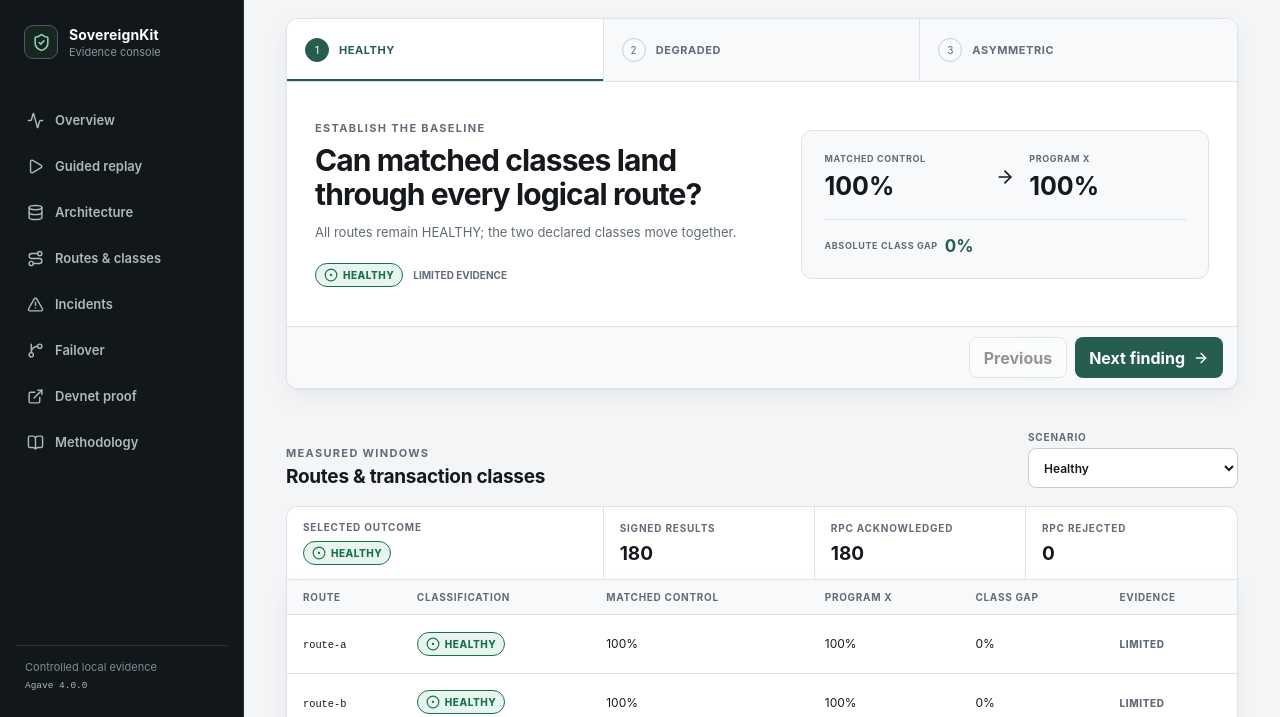
evidence dashboard › replays healthy, degraded, and asymmetric findings from accepted scenarios
(page scrolled)
expect the text "All routes remain HEALTHY; the two declared classes move together." is shown: met, box [315, 222, 765, 243]
Step 1. Click the button "Next finding" → (1149, 358), box [1075, 337, 1223, 378]
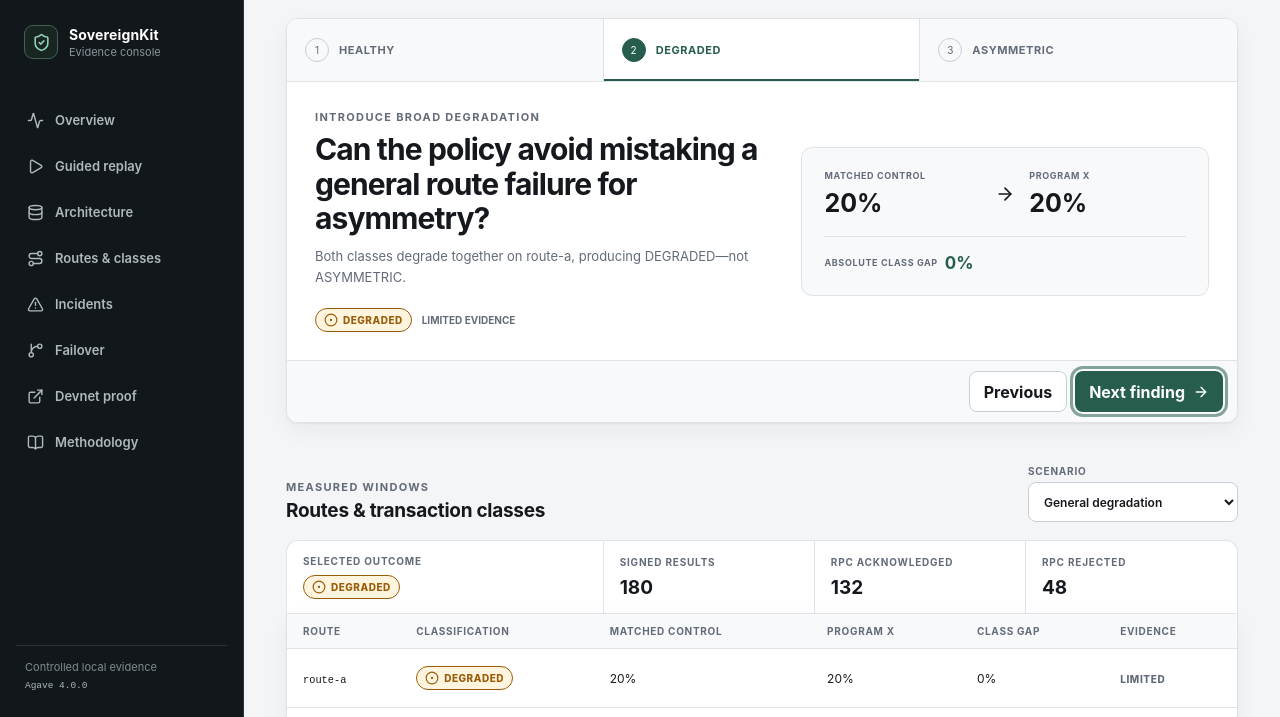
expect the text "producing DEGRADED" is shown: met, box [315, 248, 748, 285]
expect the dropdown labelled "Scenario" shows "General degradation": met, box [1028, 482, 1238, 522]
Step 2. Click the button "Next finding" → (1149, 392), box [1075, 371, 1223, 412]
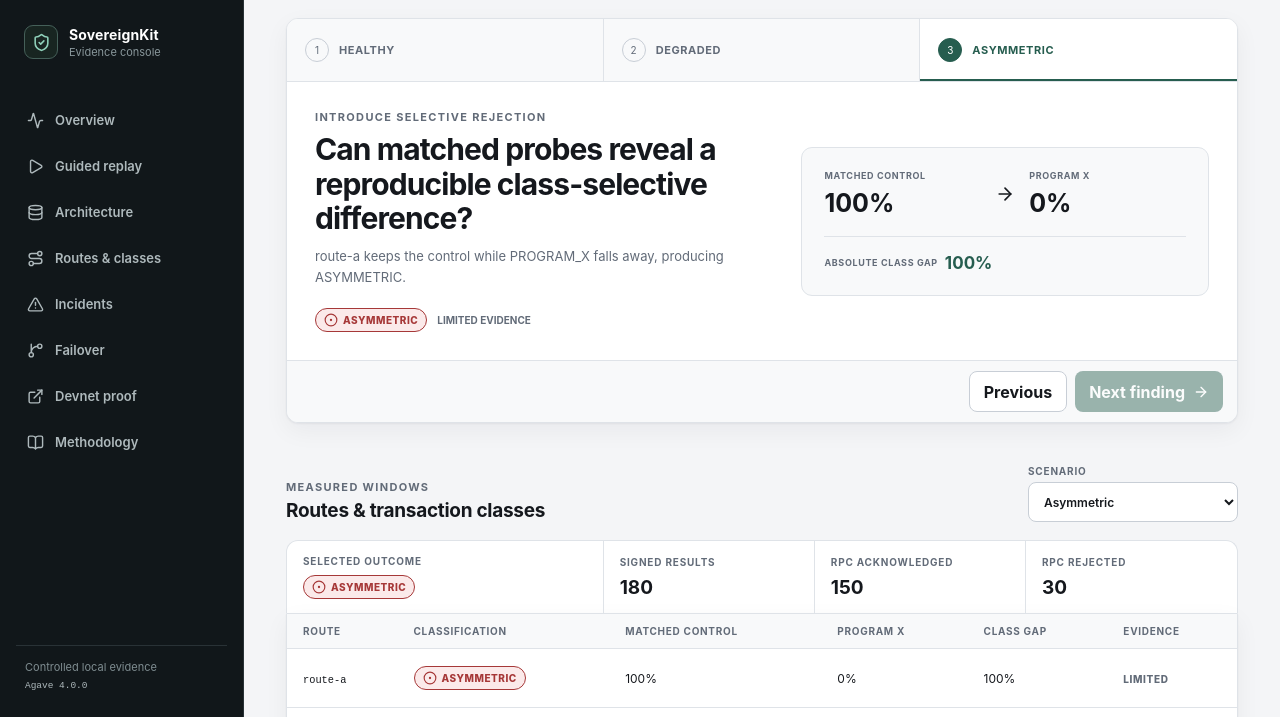
expect the text "producing ASYMMETRIC" is shown: met, box [315, 248, 724, 285]
expect the 1st text "100%" is shown: met, box [824, 188, 894, 218]
